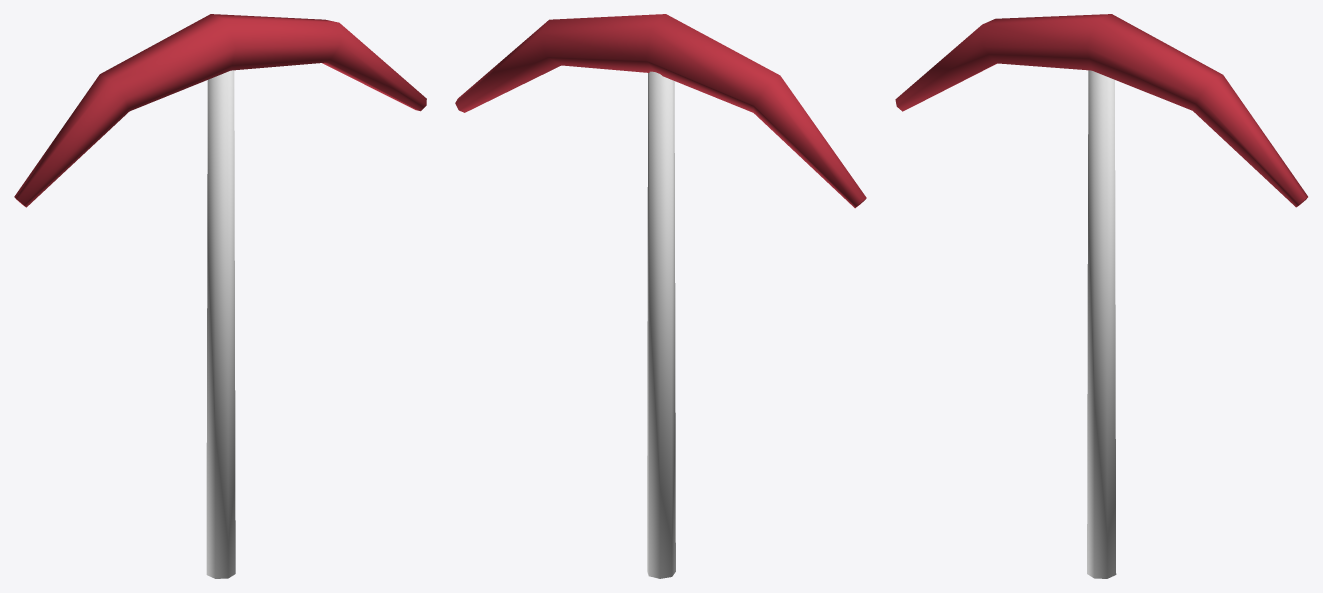
The model's file is crimtane_pickaxe.glb.
3 renders of one model, left to right at view 1: azimuth 30°, elevation 25°; view 2: azimuth 150°, elevation 25°; view 3: azimuth 330°, elevation 25°, orthographic.
Visible parts, largest first — view 1: crimtane_pickaxe_v0; view 2: crimtane_pickaxe_v0; view 3: crimtane_pickaxe_v0.
Part boxes in pixels (x1,y1,x2,y2): crimtane_pickaxe_v0: (14,14,426,578); crimtane_pickaxe_v0: (455,14,866,578); crimtane_pickaxe_v0: (895,14,1307,578).
Size of the model in its own units: 0.6949 by 0.9026 by 0.0883.
